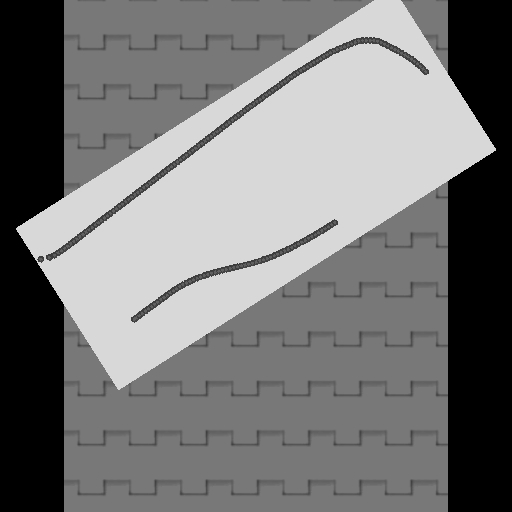Defect: (337, 76, 439, 226)
